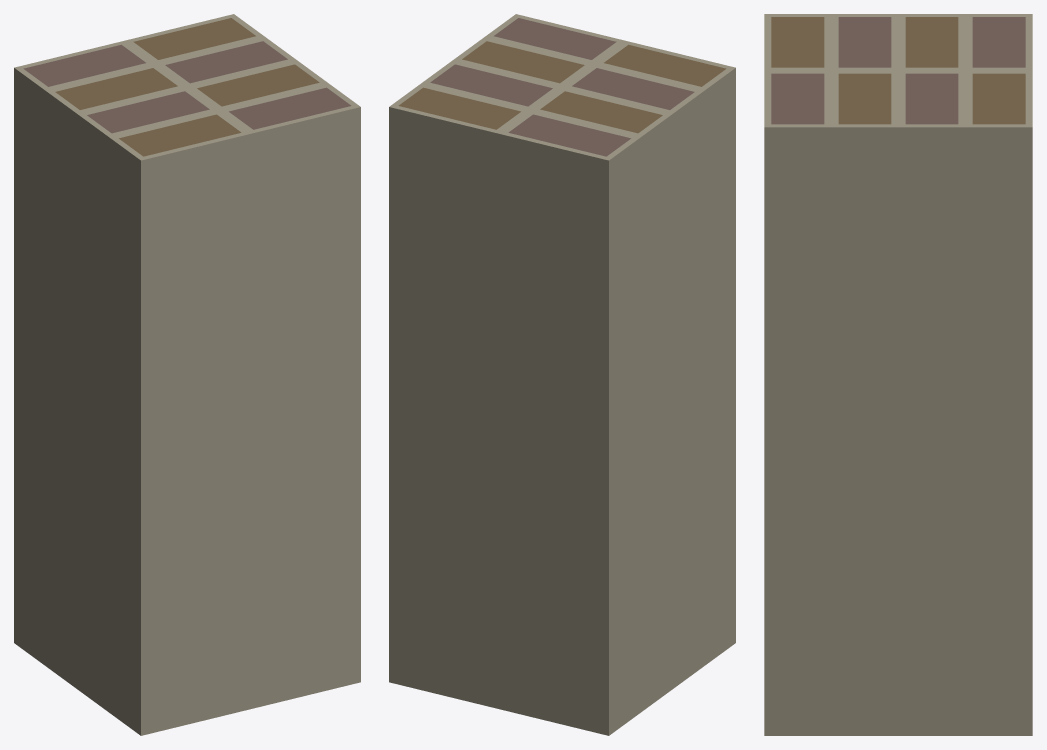
The model's file is Floor_Tile.fbx.
3 views of the same model, side by side, from view 1: azimuth 30°, elevation 25°; view 2: azimuth 150°, elevation 25°; view 3: azimuth 270°, elevation 25° (orthographic). The views are drawn at different scales.
Parts seen in each view (by area): view 1: pPipe5; view 2: pPipe5; view 3: pPipe5.
Boxes of the visible parts, bbox=[...] form: pPipe5: bbox=[14, 14, 360, 735]; pPipe5: bbox=[389, 14, 735, 735]; pPipe5: bbox=[764, 14, 1032, 735].
Bounding box in the file's own units: 0.06 × 0.15 × 0.06.
